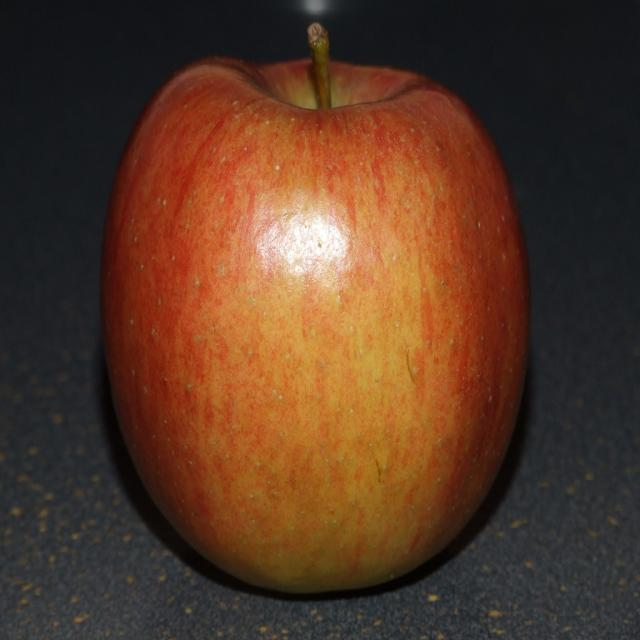Healty Apple: (80, 6, 526, 597)
